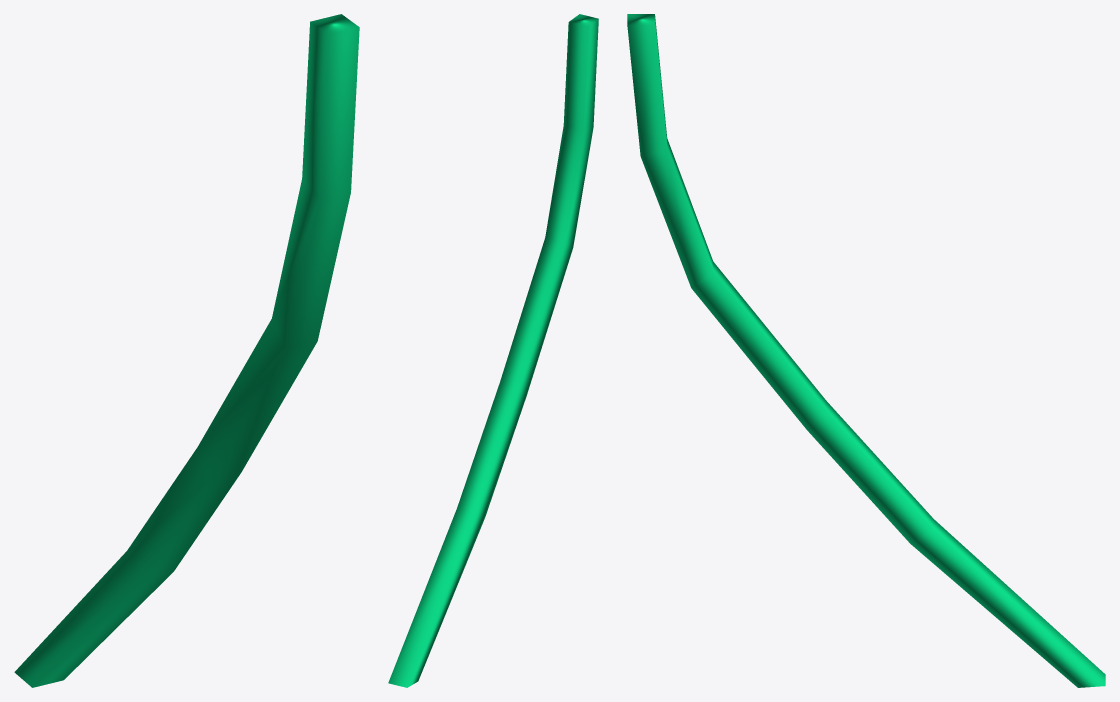
The model's file is V_Flower_Stalk_02.fbx.
The picture shows the model from 3 angles, left to right: view 1: azimuth 30°, elevation 25°; view 2: azimuth 150°, elevation 25°; view 3: azimuth 270°, elevation 25°; orthographic projection. The views are drawn at different scales.
Parts seen in each view (by area): view 1: V_Flower_Stalk_02; view 2: V_Flower_Stalk_02; view 3: V_Flower_Stalk_02.
Boxes of the visible parts, x1,y1,x2,y2 form: V_Flower_Stalk_02: [14, 14, 359, 687]; V_Flower_Stalk_02: [388, 14, 598, 687]; V_Flower_Stalk_02: [627, 14, 1105, 687].
Size of the model in its own units: 1.82 by 48.2 by 31.54.
